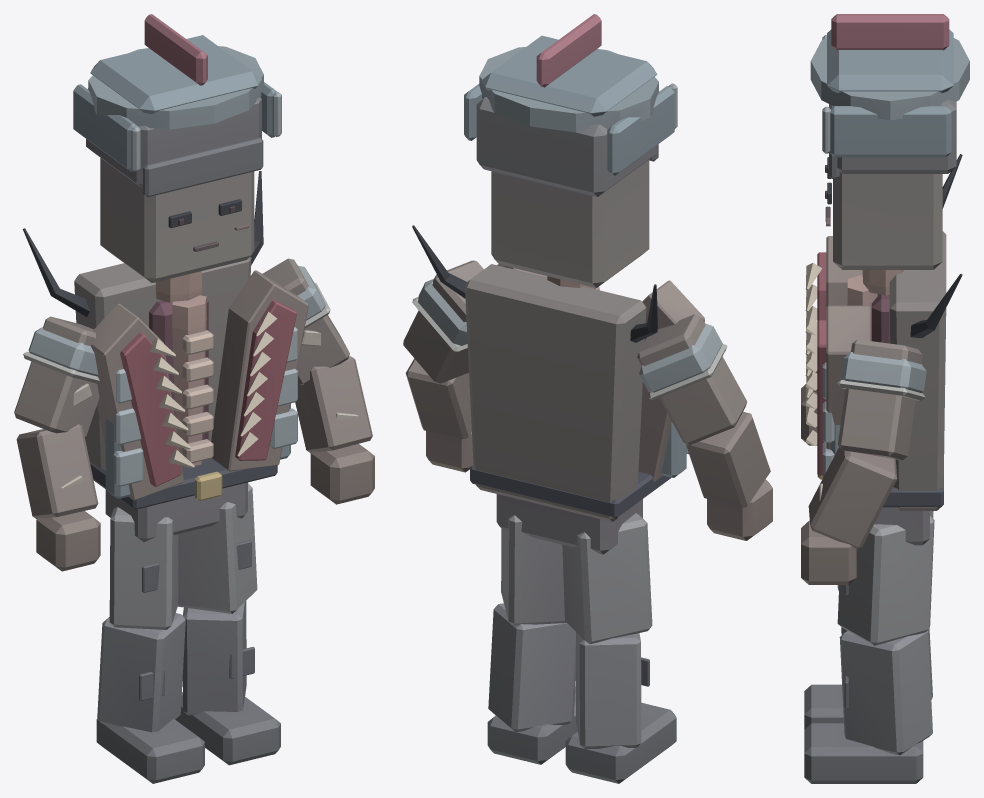
The model's file is AssimilatedAdventurerKnight.glb.
3 renders of one model, left to right at view 1: azimuth 30°, elevation 25°; view 2: azimuth 150°, elevation 25°; view 3: azimuth 270°, elevation 25°, orthographic. The views are drawn at different scales.
Visible parts, largest first — view 1: Body, Head, LegR, LegL, ArmR, ArmL, TendrilR, TendrilL; view 2: Body, Head, LegR, LegL, ArmR, ArmL, TendrilL, TendrilR; view 3: Head, LegL, Body, ArmL, LegR, TendrilL, ArmR.
Part boxes in pixels (x1=…): Body: x1=74, y1=257, x2=308, y2=542; Head: x1=73, y1=14, x2=281, y2=302; LegR: x1=96, y1=507, x2=204, y2=783; LegL: x1=175, y1=483, x2=280, y2=765; ArmR: x1=14, y1=316, x2=100, y2=571; ArmL: x1=262, y1=258, x2=374, y2=504; TendrilR: x1=23, y1=228, x2=89, y2=316; TendrilL: x1=250, y1=171, x2=263, y2=265; Body: x1=464, y1=264, x2=704, y2=554; Head: x1=464, y1=14, x2=677, y2=289; LegR: x1=562, y1=513, x2=676, y2=783; LegL: x1=487, y1=515, x2=577, y2=764; ArmR: x1=637, y1=314, x2=772, y2=540; ArmL: x1=403, y1=260, x2=483, y2=472; TendrilL: x1=412, y1=225, x2=466, y2=298; TendrilR: x1=630, y1=284, x2=657, y2=342; Head: x1=810, y1=14, x2=969, y2=295; LegL: x1=804, y1=516, x2=934, y2=783; Body: x1=805, y1=231, x2=946, y2=545; ArmL: x1=801, y1=339, x2=926, y2=584; LegR: x1=804, y1=511, x2=933, y2=729; TendrilL: x1=910, y1=274, x2=962, y2=338; ArmR: x1=801, y1=370, x2=817, y2=445.
Size of the model in its own units: 3.24 by 6.76 by 1.4.
